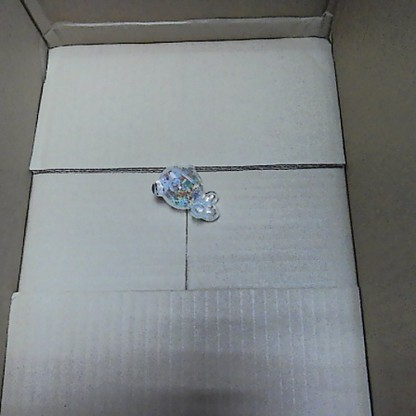whitefish: (148, 161, 225, 225)
